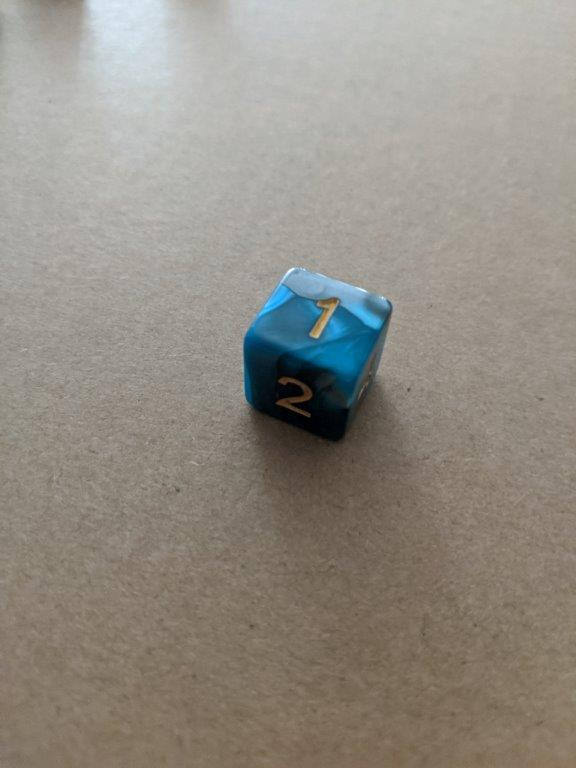d6-1: (240, 265, 392, 441)
